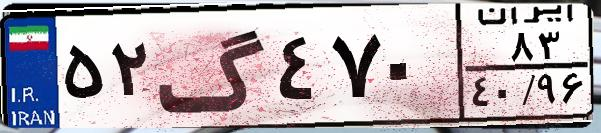0: (385, 28, 445, 110), (495, 70, 520, 125)
2: (110, 28, 156, 98)
3: (537, 27, 568, 80)
4: (270, 28, 330, 110), (470, 70, 495, 125)
5: (57, 26, 110, 100)
6: (560, 70, 590, 125)
7: (330, 28, 385, 110)
8: (508, 27, 537, 80)
9: (535, 70, 560, 125)
گ: (156, 12, 270, 120)
